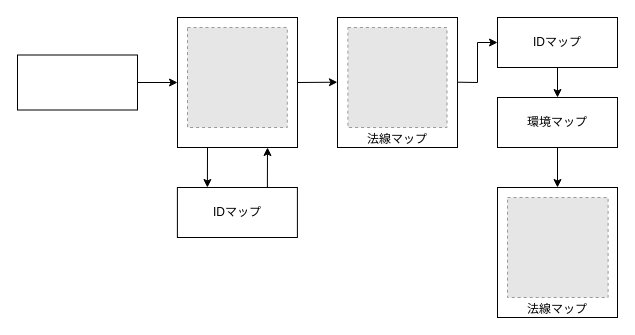
This 635x335 diagram has some shape labels left out. Grey dashed boxes stand in for pictures. Each missing label, with the box of its shape:
ハイトマップ: (176, 16, 298, 148)
パーティクル システム: (16, 54, 138, 110)
